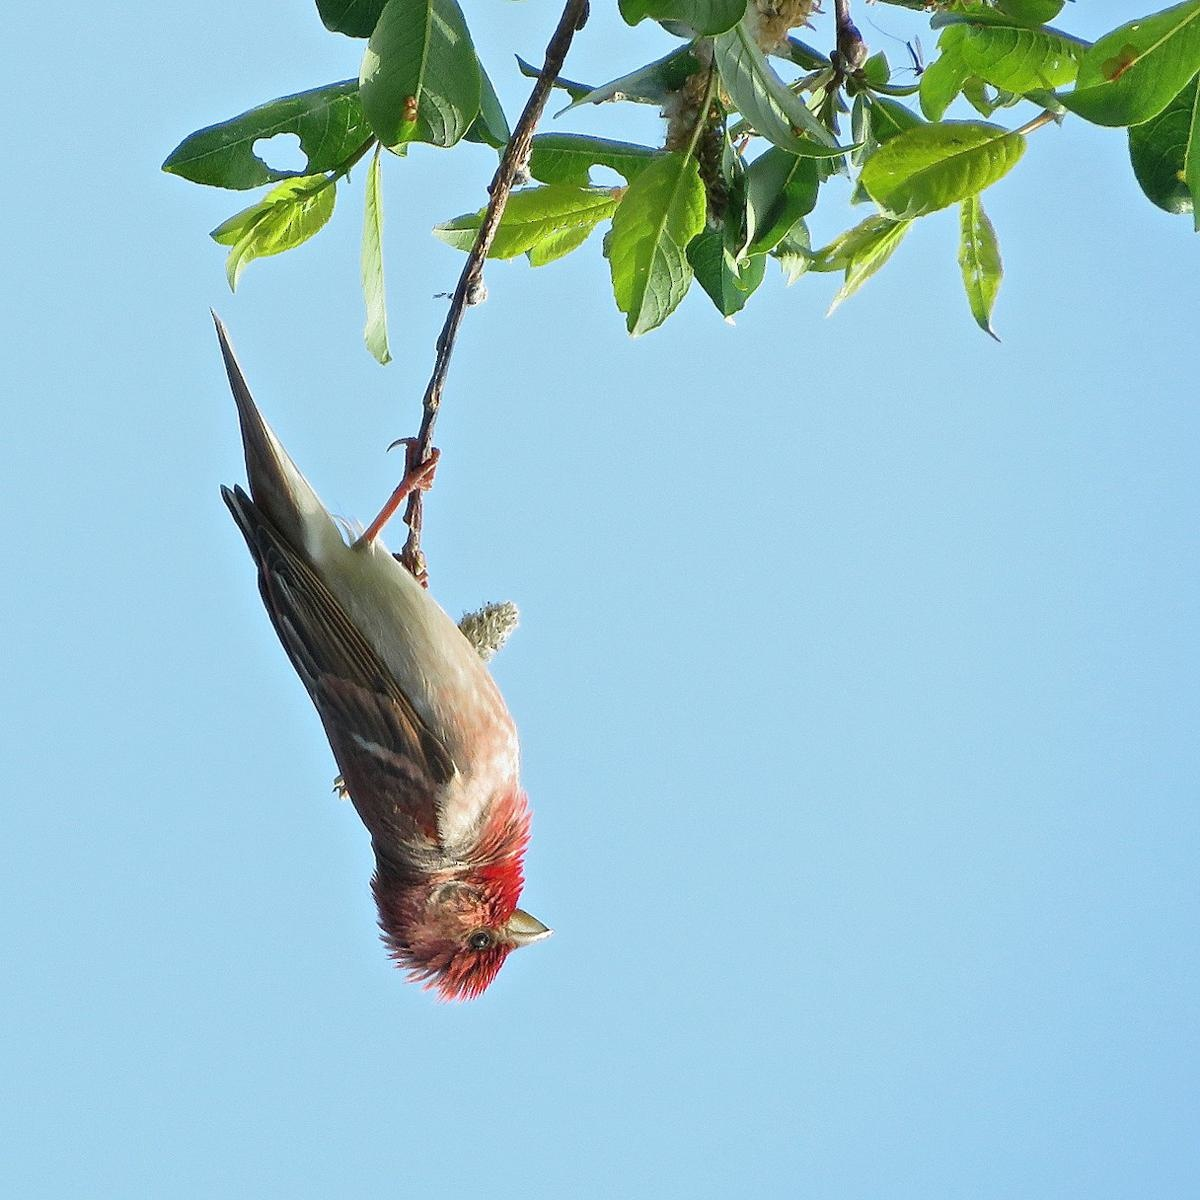rosefinch: (173, 375, 558, 1027)
